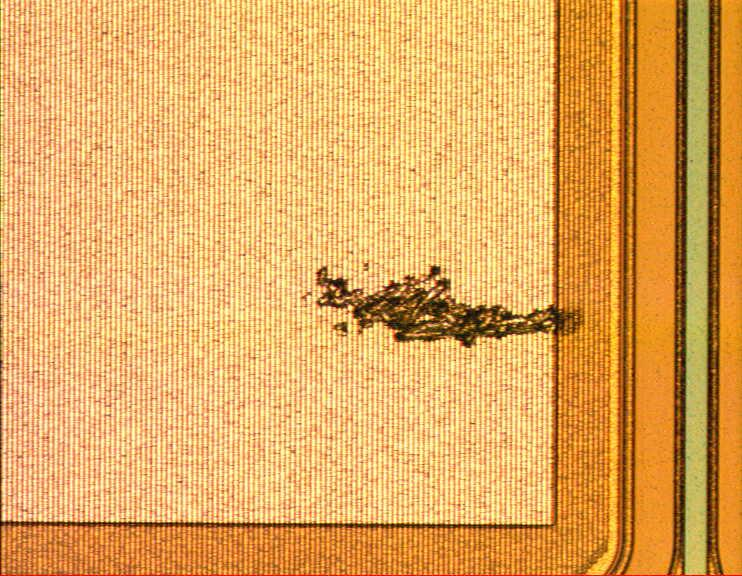SCRATCH: (295, 262, 592, 347)
